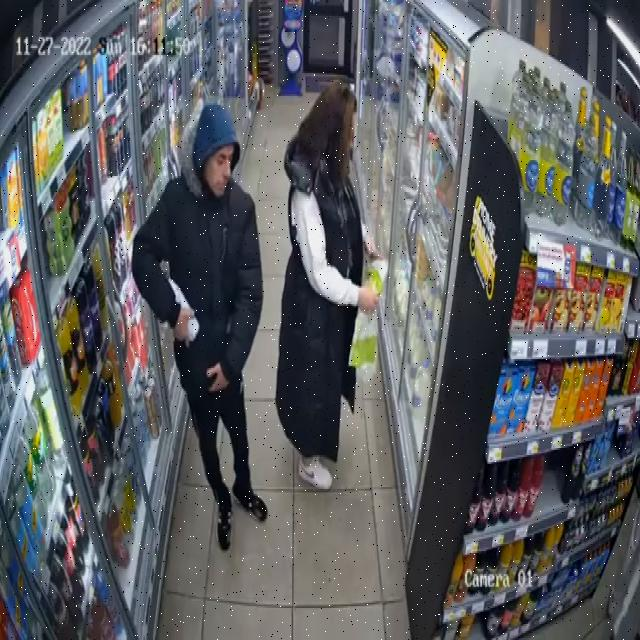article: (169, 279, 192, 309), (187, 316, 198, 345)
bags: (349, 311, 376, 380), (367, 260, 385, 293)
hands: (174, 308, 192, 340), (358, 284, 378, 311), (209, 363, 227, 389), (365, 235, 381, 256)
person: (132, 103, 266, 549), (275, 80, 379, 489)
